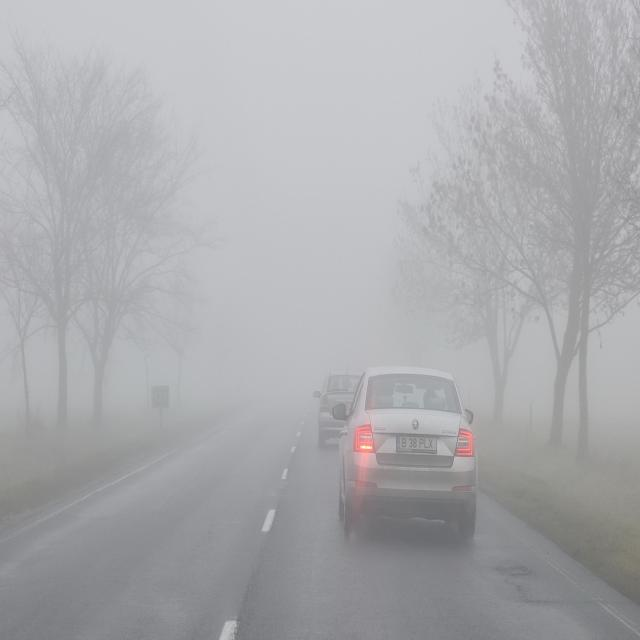car: (338, 367, 478, 547), (313, 372, 358, 448)
